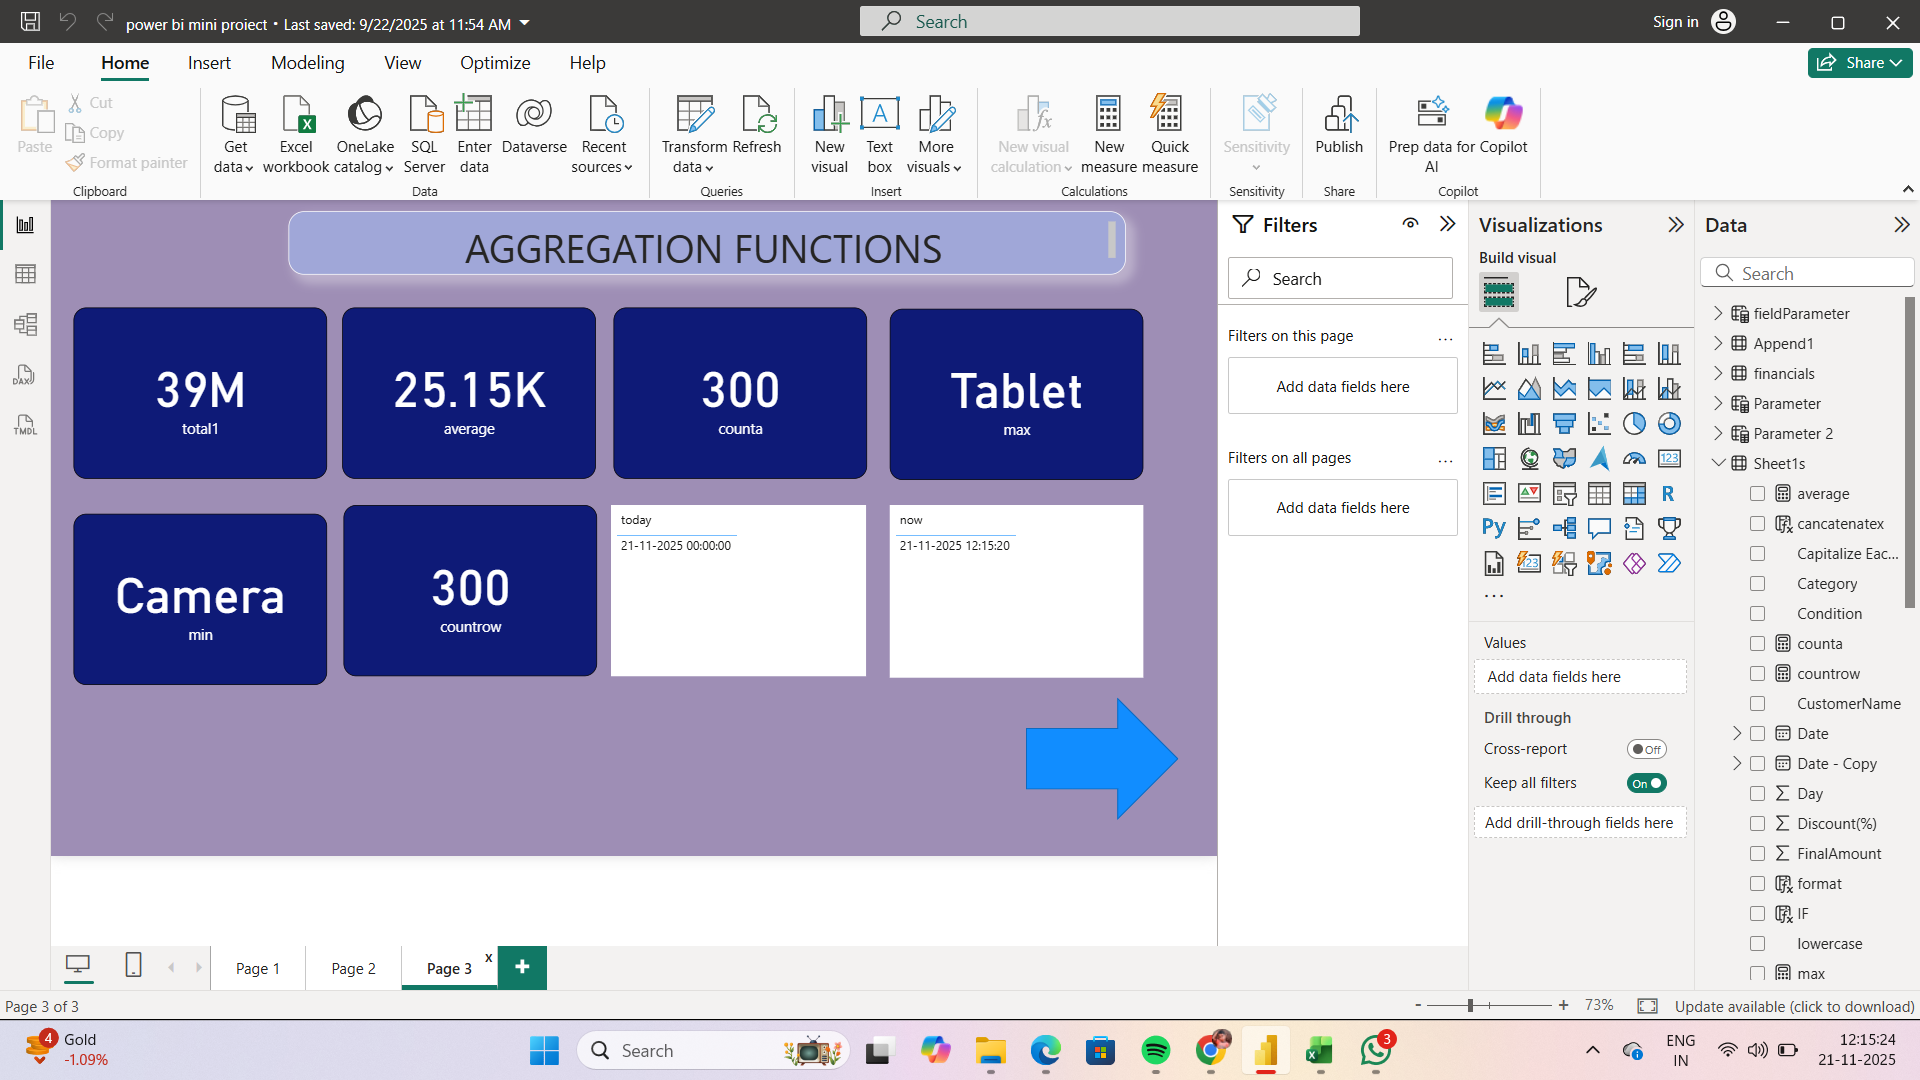

Layout of this report page (visuals, bound fields, positions):
{"tool":"powerbi","page":{"name":"Page 3","canvas":[1280,720],"ordinal":2},"visuals":[{"type":"card","fields":{"Values":["Sheet1s.average"]},"box":[319.7,118,278.6,188],"z":0},{"type":"card","fields":{"Values":["Sheet1s.max"]},"box":[920.8,119.4,278.6,188],"z":1000},{"type":"card","fields":{"Values":["Sheet1s.min"]},"box":[24.7,344.4,278.6,188],"z":2000},{"type":"card","fields":{"Values":["Sheet1s.counta"]},"box":[617.5,118,278.6,188],"z":3000},{"type":"card","fields":{"Values":["Sheet1s.countrow"]},"box":[321.1,334.8,278.6,188],"z":4000},{"type":"tableEx","fields":{"Values":["Sheet1s.today"]},"box":[614.8,334.8,279.9,188],"z":5000},{"type":"tableEx","fields":{"Values":["Sheet1s.now"]},"box":[920.8,334.8,278.6,189.4],"z":6000},{"type":"shape","box":[1070.3,546.1,167.4,134.5],"z":7000},{"type":"textbox","box":[260.4,11.9,919.1,69.8],"z":8000},{"type":"card","fields":{"Values":["Sheet1s.total"]},"box":[24.7,118,278.6,188],"z":9000}]}

Visuals, with their boxes on the page's 1280x720 design canvas (x1, y1, x2, y2). These are canvas units, not pixel positions in the 1920x1080 screenshot, which may show the page scaled, cropped or inside an application window:
card - Sheet1s.average: 320/118/598/306
card - Sheet1s.max: 921/119/1199/307
card - Sheet1s.min: 25/344/303/532
card - Sheet1s.counta: 618/118/896/306
card - Sheet1s.countrow: 321/335/600/523
tableEx - Sheet1s.today: 615/335/895/523
tableEx - Sheet1s.now: 921/335/1199/524
shape: 1070/546/1238/681
textbox: 260/12/1180/82
card - Sheet1s.total: 25/118/303/306
